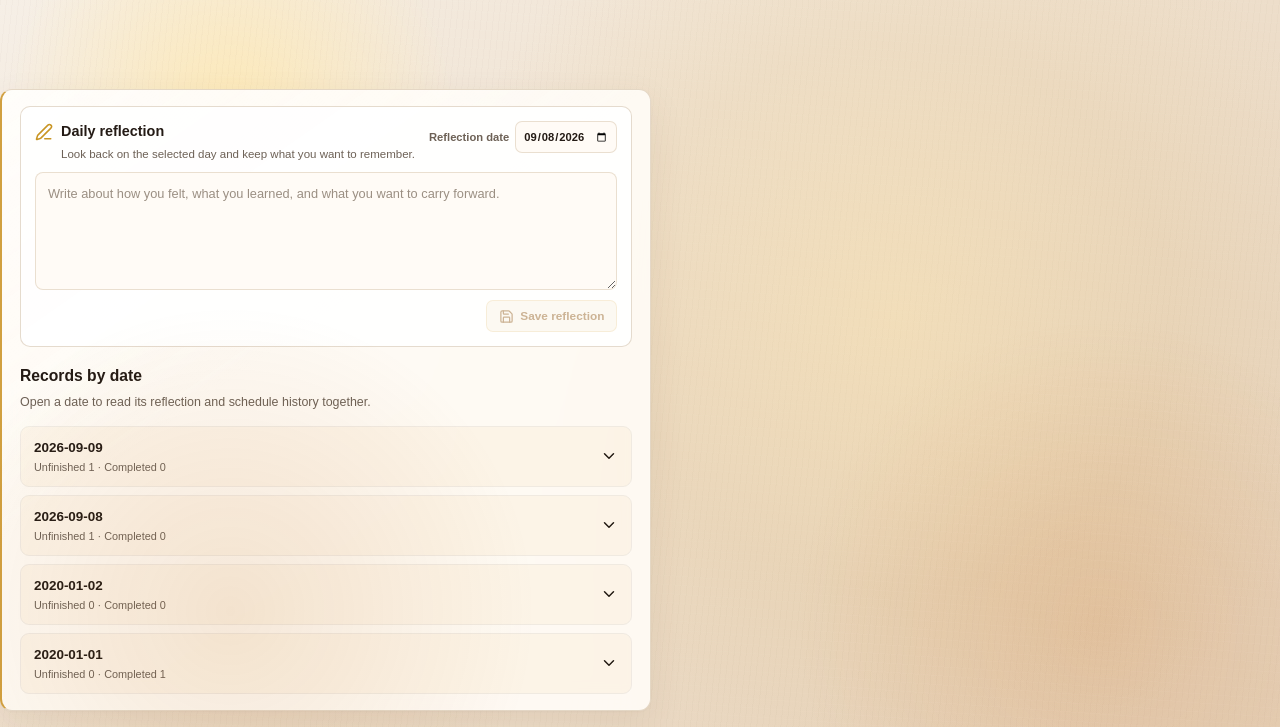
Test: daily reflection editor and history › places the editor before one collapsed list of schedule and reflection dates, newest first
Check: the number of elements with class "accordion-list" is 1, box x1=20 y1=426 x2=632 y2=694
Step 1. Click the 3rd button with class "accordion-header" → (68, 585), box x1=21 y1=565 x2=631 y2=624
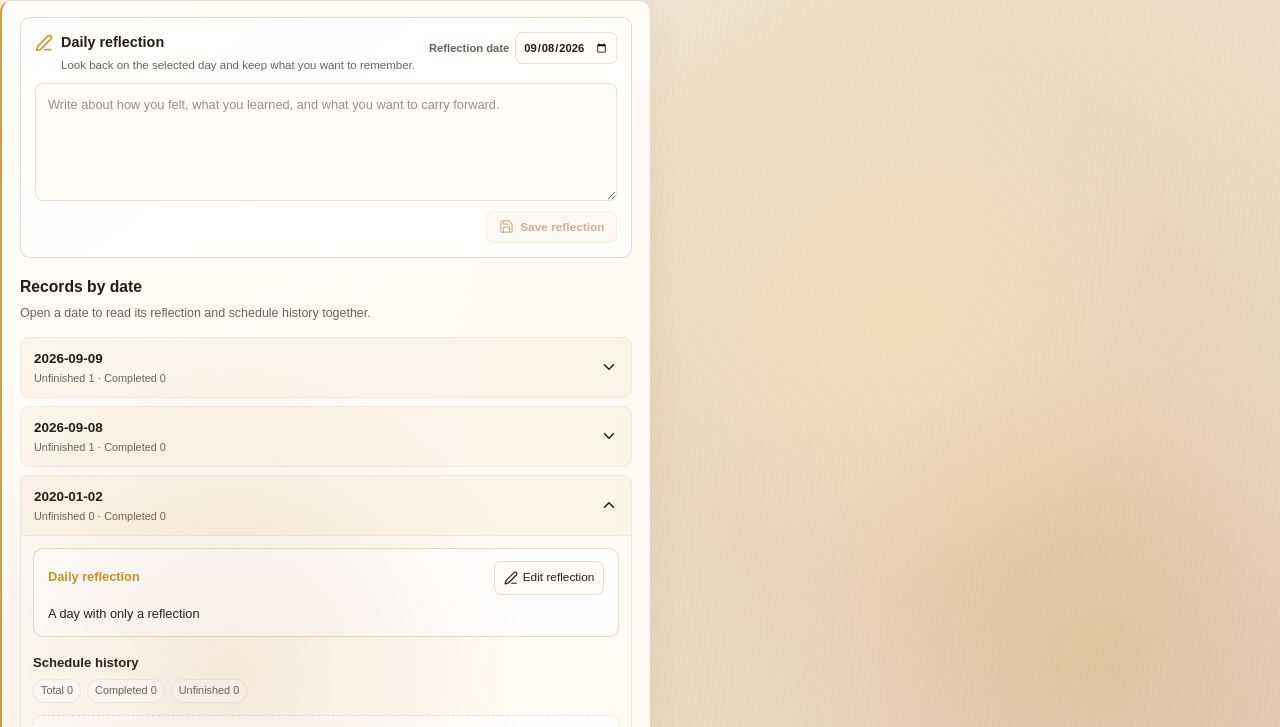
Check: the text with class "daily-reflection-content" reads "A day with only a reflection", box x1=48 y1=606 x2=200 y2=621
Step 2. Click the 2nd button with class "accordion-header" → (68, 427), box x1=21 y1=406 x2=631 y2=466
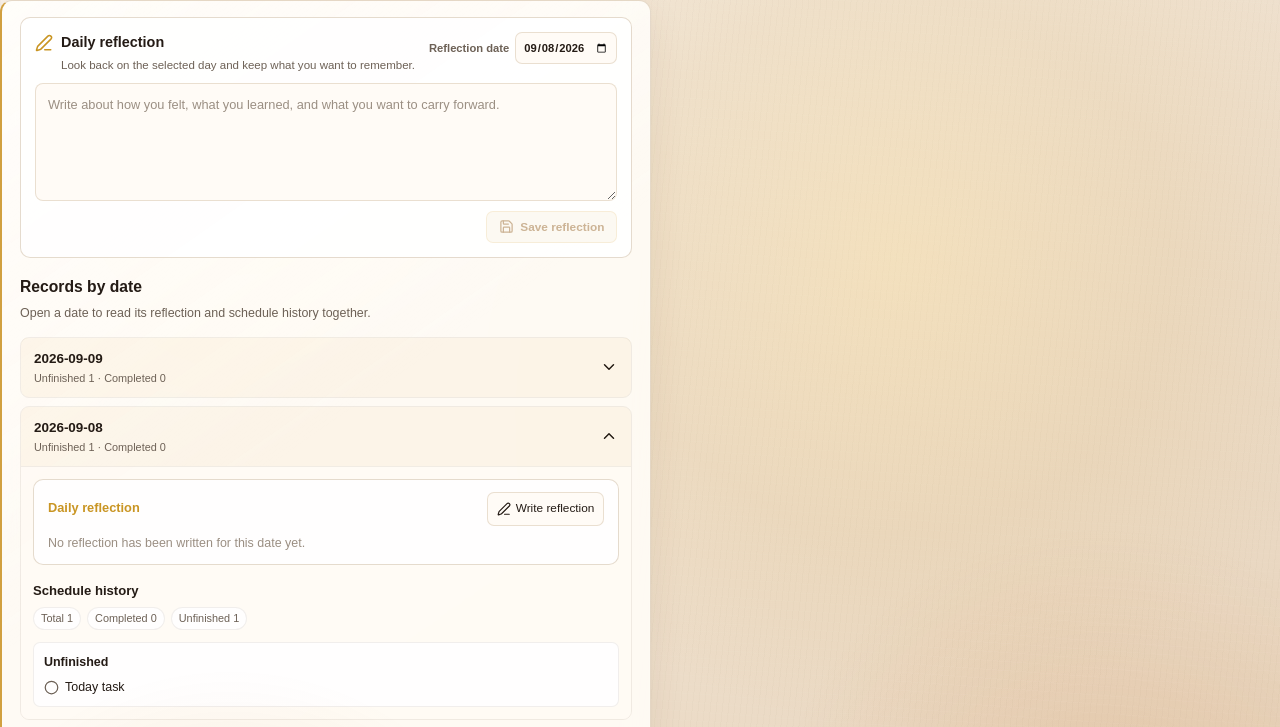
Check: the list with class "archive-task-list" reads "Today task", box x1=65 y1=680 x2=125 y2=694
Step 3. Click the 1st button with class "accordion-header" → (68, 358), box x1=21 y1=337 x2=631 y2=396
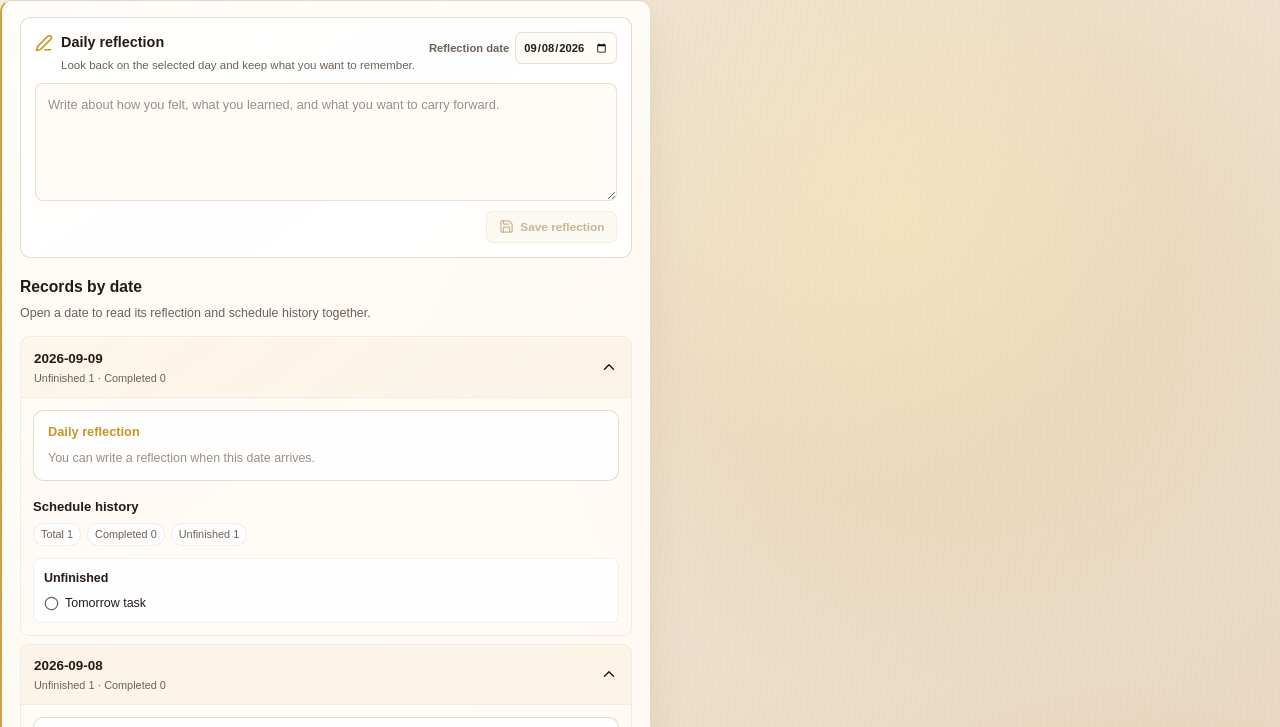
Check: the list with class "archive-task-list" reads "Tomorrow task", box x1=65 y1=596 x2=146 y2=610
